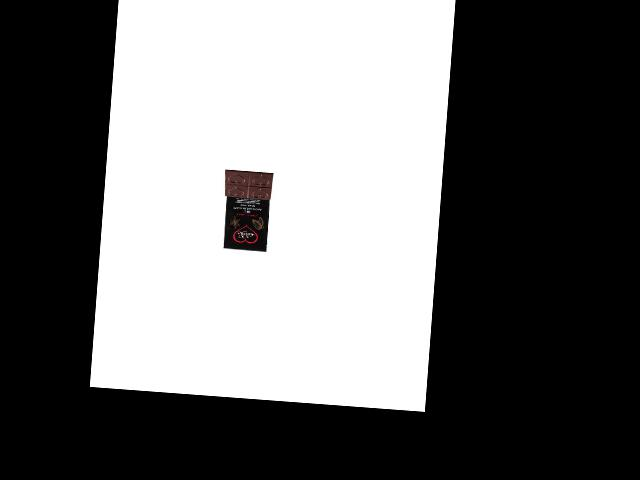chocolate: (215, 166, 275, 252)
